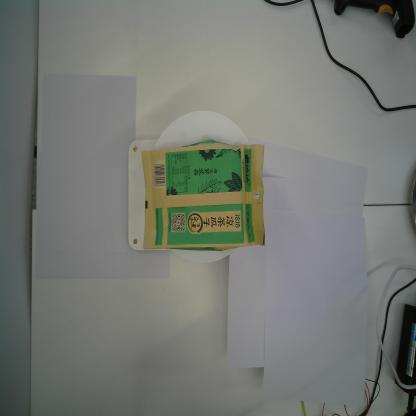Dried Food: (139, 138, 267, 254)
